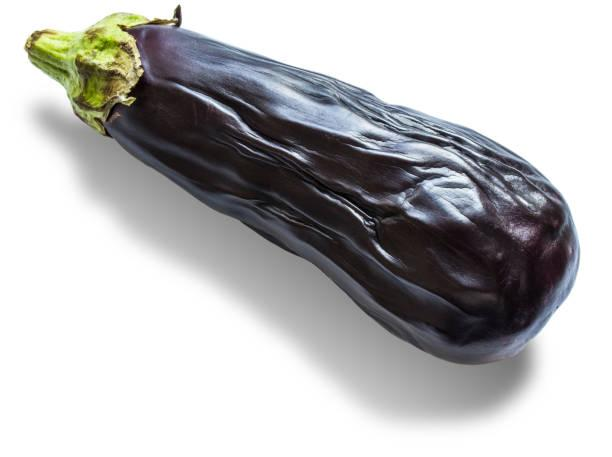Brinjal: (23, 8, 582, 369)
